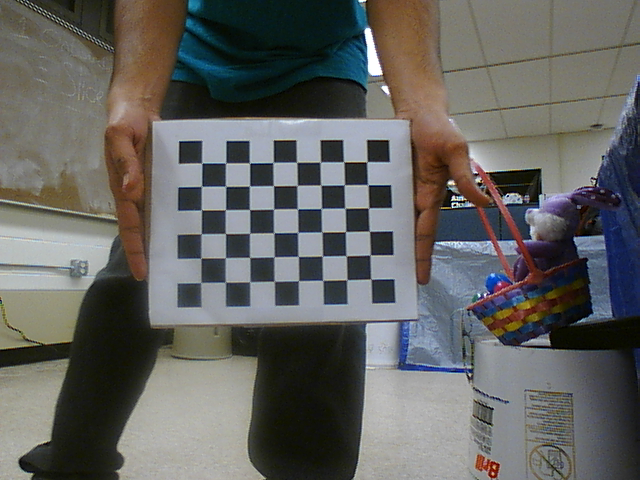bunny: (459, 148, 595, 347)
